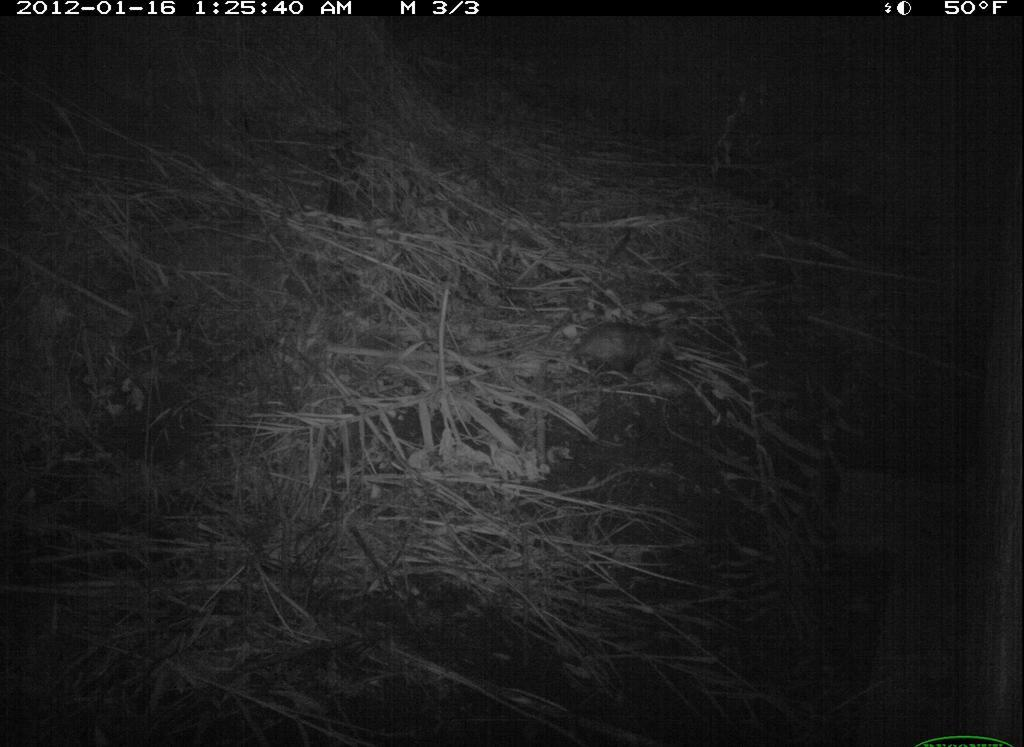opossum: (529, 312, 699, 388)
